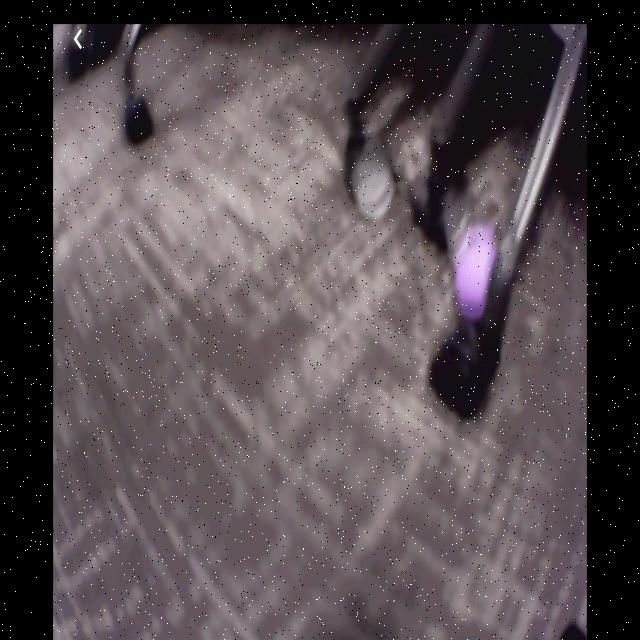ball: (455, 227, 496, 321)
